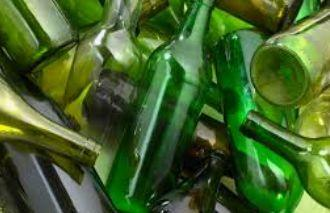glass: (100, 0, 227, 212), (210, 28, 309, 210), (1, 1, 118, 111), (2, 60, 103, 175), (254, 5, 330, 111), (0, 0, 55, 71)
